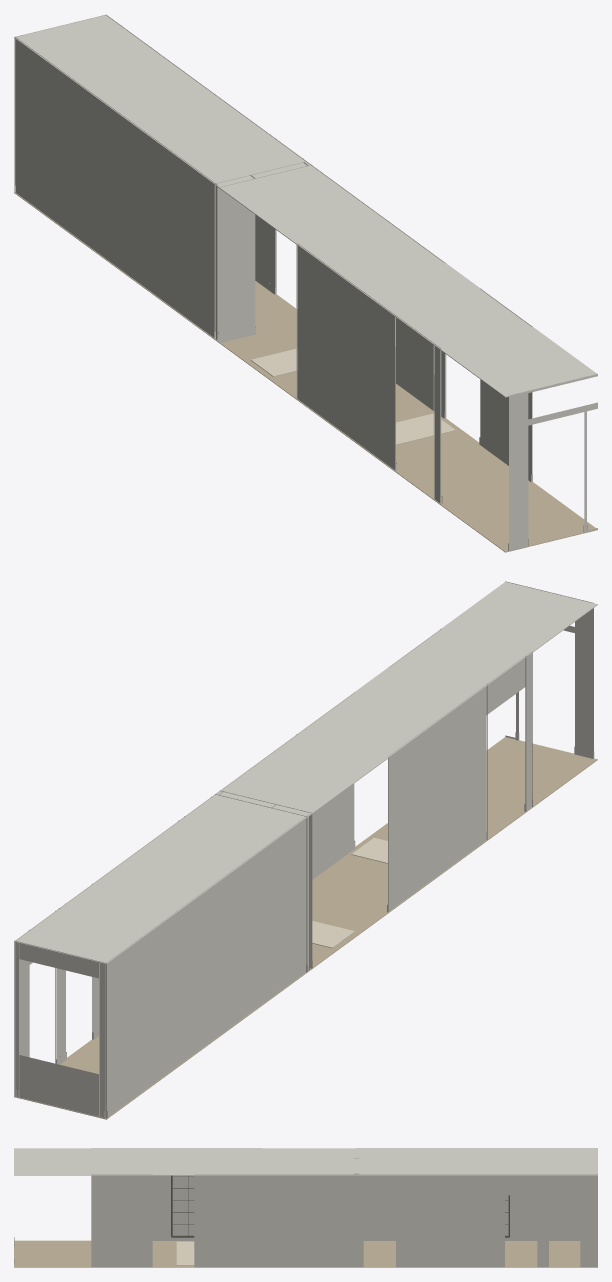
The model's file is corridor-2.glb.
The picture shows the model from 3 angles, top to bottom: view 1: azimuth 30°, elevation 25°; view 2: azimuth 150°, elevation 25°; view 3: azimuth 270°, elevation 25°; orthographic projection. The views are drawn at different scales.
Parts seen in each view (by area): view 1: DESIGN | corridor removable wall finish, DESIGN | corridor ceiling finish, DESIGN | corridor floor finish, DESIGN | Archive floor interval, DESIGN | Archive floor interval.001; view 2: DESIGN | corridor removable wall finish, DESIGN | corridor ceiling finish, DESIGN | corridor floor finish, DESIGN | Archive floor interval.001; view 3: DESIGN | corridor removable wall finish, DESIGN | corridor ceiling finish, DESIGN | corridor floor finish, DESIGN | Archive floor interval, DESIGN | Kumiko | Open square-grid archive.001.
Part boxes in pixels (x1,y1,x2,y2): DESIGN | corridor removable wall finish: [14, 14, 597, 550]; DESIGN | corridor ceiling finish: [14, 15, 597, 397]; DESIGN | corridor floor finish: [14, 192, 597, 552]; DESIGN | Archive floor interval: [396, 413, 455, 445]; DESIGN | Archive floor interval.001: [251, 348, 297, 376]; DESIGN | corridor removable wall finish: [14, 581, 594, 1118]; DESIGN | corridor ceiling finish: [14, 582, 597, 964]; DESIGN | corridor floor finish: [14, 737, 597, 1119]; DESIGN | Archive floor interval.001: [312, 921, 355, 948]; DESIGN | corridor removable wall finish: [14, 1148, 597, 1267]; DESIGN | corridor ceiling finish: [14, 1148, 597, 1175]; DESIGN | corridor floor finish: [14, 1240, 597, 1267]; DESIGN | Archive floor interval: [176, 1241, 194, 1265]; DESIGN | Kumiko | Open square-grid archive.001: [171, 1175, 194, 1237].
Bounding box in the file's own units: 1.7 × 2.74 × 15.63.
